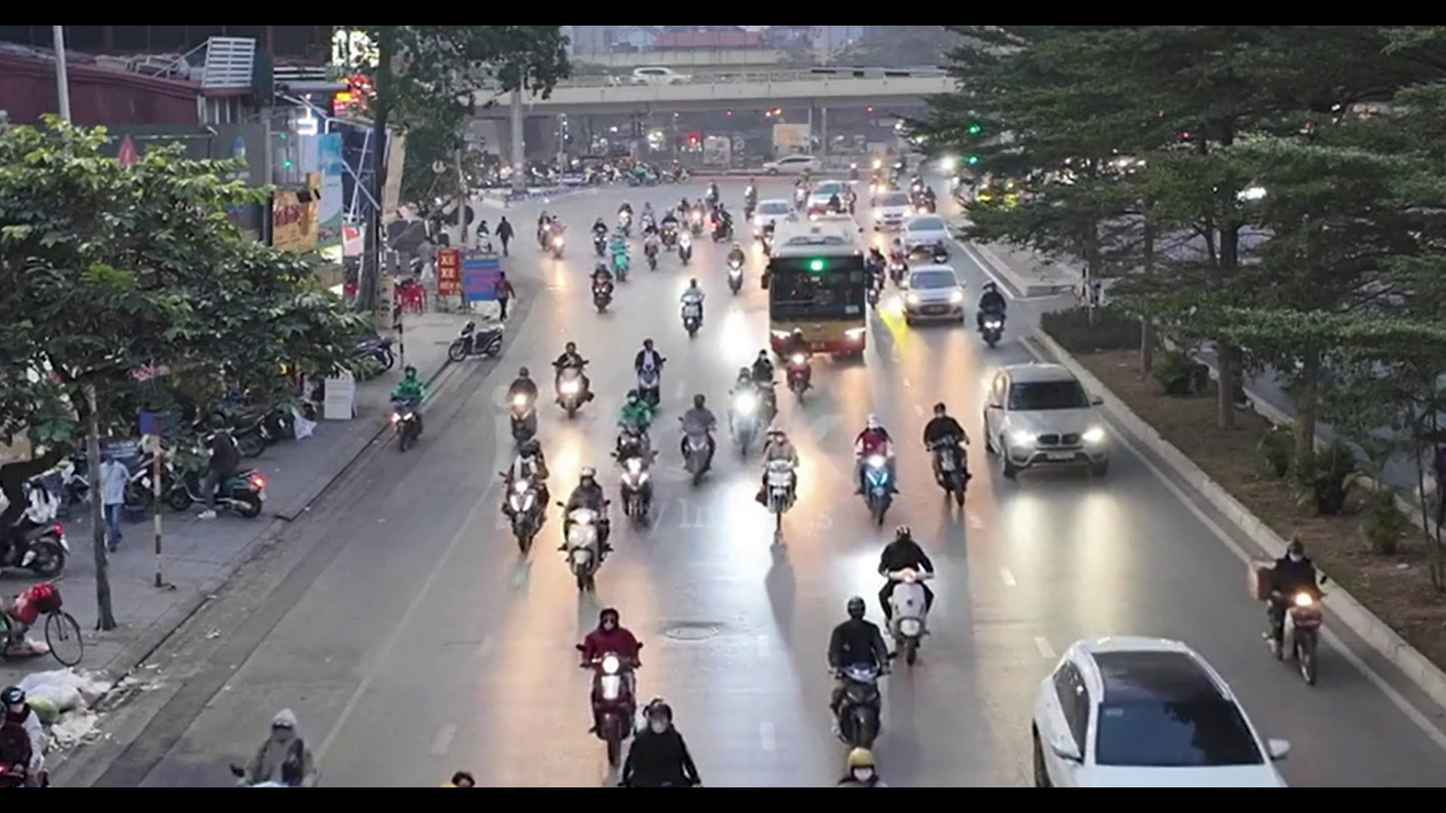bus: (765, 242, 871, 362)
car: (1028, 633, 1291, 786), (981, 363, 1114, 482), (903, 264, 964, 327)
motorcycle: (0, 575, 84, 669), (207, 465, 269, 520), (856, 457, 898, 530)
